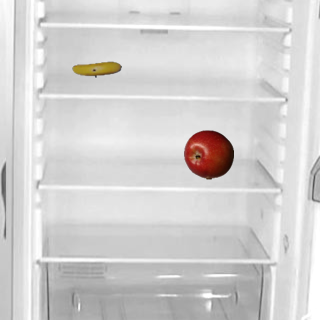Apple Braeburn: (183, 129, 233, 179)
Banana: (71, 44, 121, 94)
